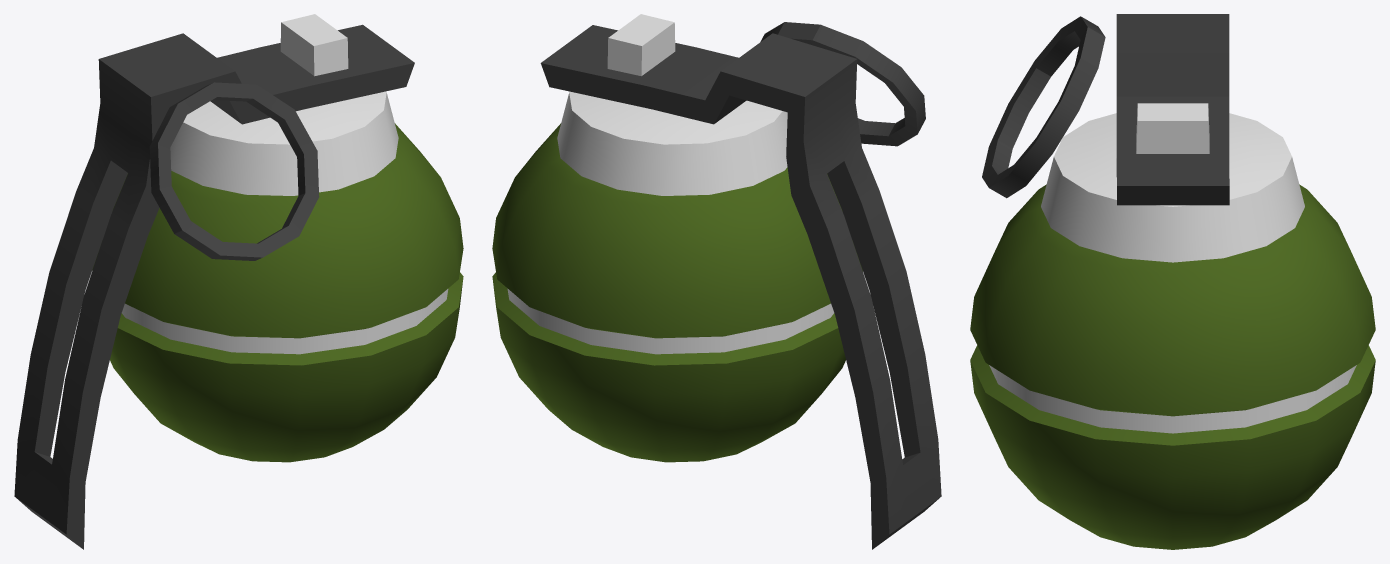
The model's file is Grenade.glb.
3 views of the same model, side by side, from view 1: azimuth 30°, elevation 25°; view 2: azimuth 150°, elevation 25°; view 3: azimuth 270°, elevation 25° (orthographic). The views are drawn at different scales.
Visible parts, largest first — view 1: Grenade; view 2: Grenade; view 3: Grenade.
Boxes of the visible parts, box(x1,y1,x2,y2) form: Grenade: box(14, 14, 463, 549); Grenade: box(492, 14, 941, 549); Grenade: box(970, 14, 1375, 549).
Bounding box in the file's own units: 0.1804 × 0.1936 × 0.1469.
